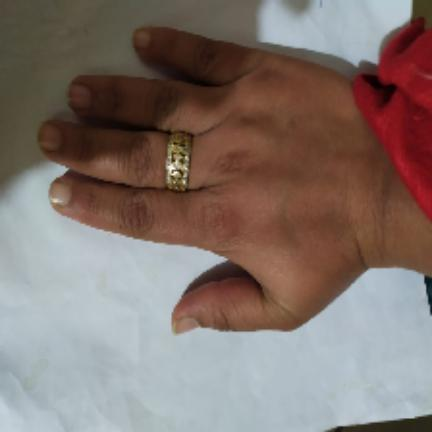Nail: (38, 122, 62, 152), (69, 84, 91, 109), (49, 182, 72, 205), (172, 317, 197, 333), (133, 30, 151, 49)
